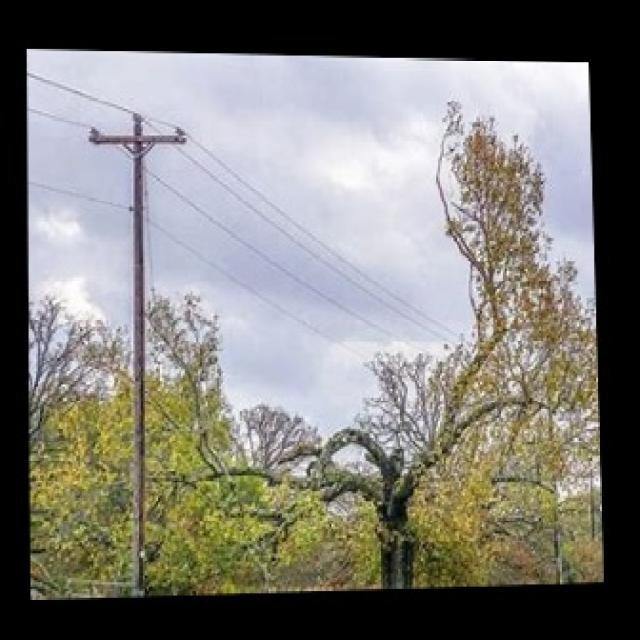utility poles: (70, 97, 206, 599)
